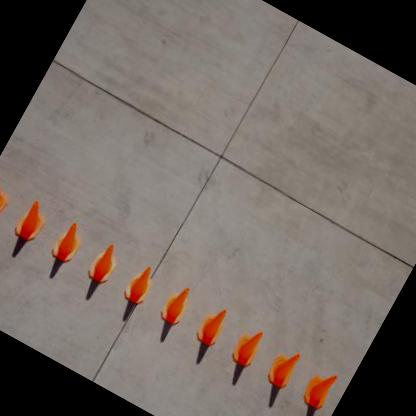cone: (298, 360, 342, 412), (10, 198, 52, 245), (228, 324, 268, 370), (192, 302, 232, 348), (86, 238, 126, 284), (48, 220, 88, 266), (121, 262, 160, 309), (263, 345, 303, 390), (158, 282, 196, 326), (0, 175, 17, 224)
